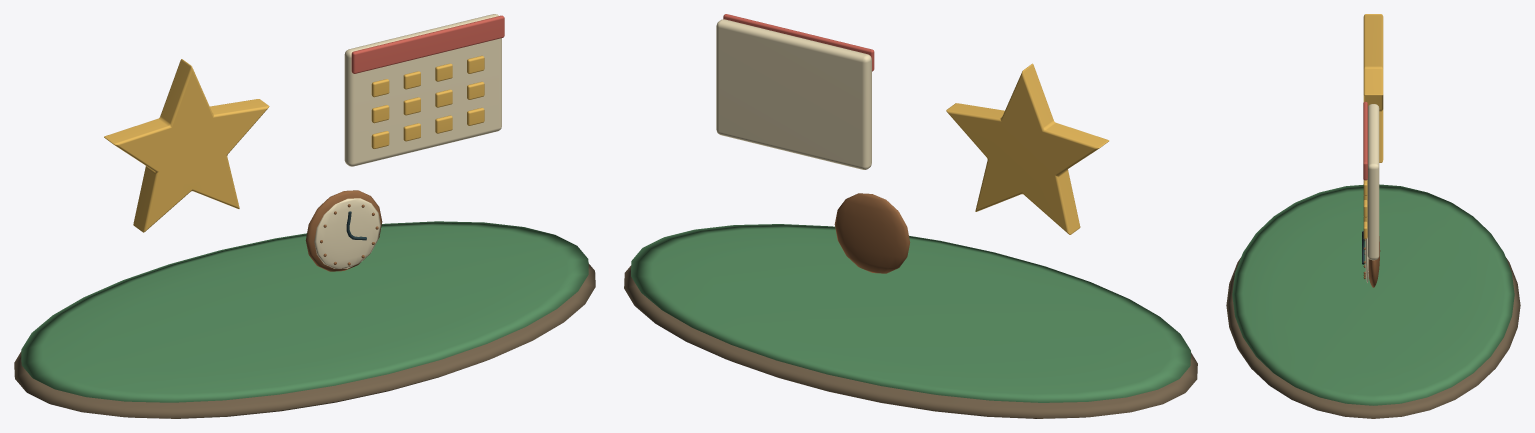
Rendered from complete-first-most-near-time.glb.
The picture shows the model from 3 angles, left to right: view 1: azimuth 30°, elevation 25°; view 2: azimuth 150°, elevation 25°; view 3: azimuth 270°, elevation 25°; orthographic projection. The views are drawn at different scales.
Parts seen in each view (by area): view 1: complete-first-most-near-time_surface_01, complete-first-most-near-time_surface_03, complete-first-most-near-time_surface_02, complete-first-most-near-time_surface_00, complete-first-most-near-time_surface_04, complete-first-most-near-time_surface_05; view 2: complete-first-most-near-time_surface_01, complete-first-most-near-time_surface_03, complete-first-most-near-time_surface_02, complete-first-most-near-time_surface_00, complete-first-most-near-time_surface_05, complete-first-most-near-time_surface_04; view 3: complete-first-most-near-time_surface_01, complete-first-most-near-time_surface_00, complete-first-most-near-time_surface_02, complete-first-most-near-time_surface_03, complete-first-most-near-time_surface_04, complete-first-most-near-time_surface_05.
Part boxes in pixels (box(x1,y1,x2,y2)): complete-first-most-near-time_surface_01: box(21, 221, 588, 402); complete-first-most-near-time_surface_03: box(314, 14, 501, 268); complete-first-most-near-time_surface_02: box(104, 55, 484, 232); complete-first-most-near-time_surface_00: box(14, 263, 595, 418); complete-first-most-near-time_surface_04: box(351, 15, 504, 73); complete-first-most-near-time_surface_05: box(305, 190, 382, 271); complete-first-most-near-time_surface_01: box(631, 224, 1190, 402); complete-first-most-near-time_surface_03: box(716, 19, 903, 219); complete-first-most-near-time_surface_02: box(946, 63, 1109, 234); complete-first-most-near-time_surface_00: box(624, 265, 1197, 418); complete-first-most-near-time_surface_05: box(834, 193, 910, 273); complete-first-most-near-time_surface_04: box(723, 14, 874, 71); complete-first-most-near-time_surface_01: box(1232, 184, 1514, 405); complete-first-most-near-time_surface_00: box(1226, 258, 1520, 418); complete-first-most-near-time_surface_02: box(1363, 14, 1383, 239); complete-first-most-near-time_surface_03: box(1365, 104, 1379, 282); complete-first-most-near-time_surface_04: box(1363, 101, 1367, 180); complete-first-most-near-time_surface_05: box(1363, 236, 1380, 287).
Bounding box in the file's own units: 4.56 × 2.41 × 2.5.
